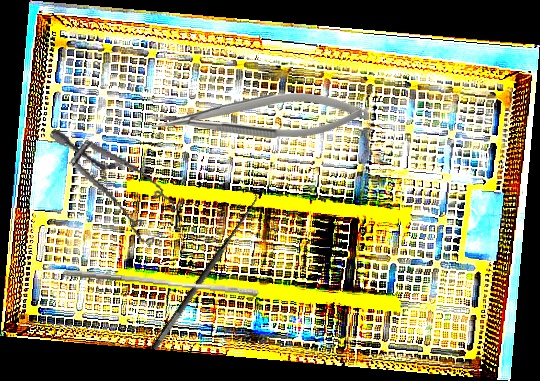Hook Surgical: (138, 186, 265, 352)
Needle Holder: (153, 93, 369, 138)
Pusher: (61, 269, 260, 297)
Speculum: (30, 128, 194, 253)
